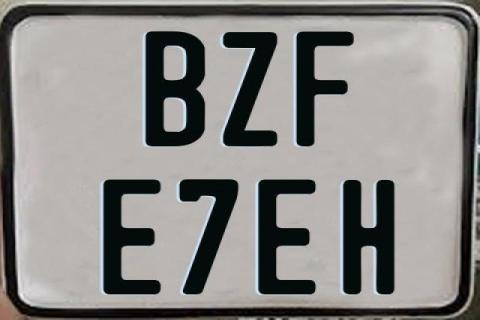0: (179, 179, 241, 297)
B: (146, 31, 208, 148)
E: (100, 178, 164, 298), (255, 179, 319, 296)
F: (293, 31, 351, 147)
H: (343, 180, 395, 296)
Z: (220, 31, 276, 147)
